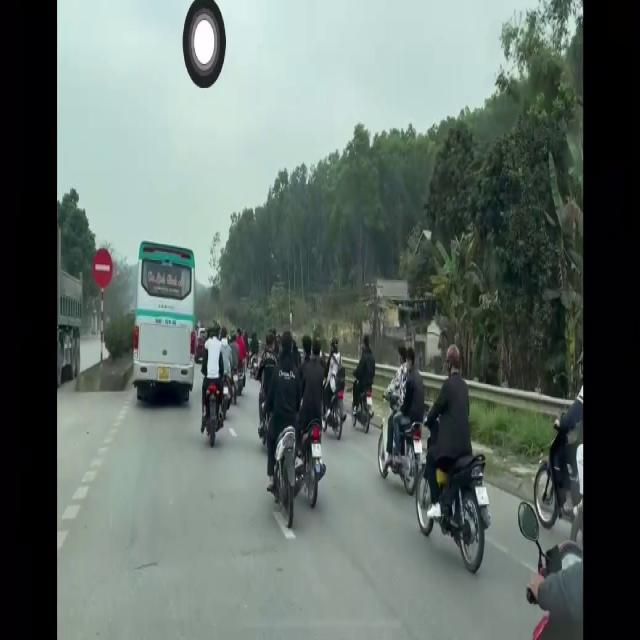helmet: (447, 345, 462, 380)
no_helmet: (406, 339, 418, 379), (280, 330, 295, 362), (302, 329, 313, 367), (394, 340, 405, 375), (362, 327, 372, 353)
